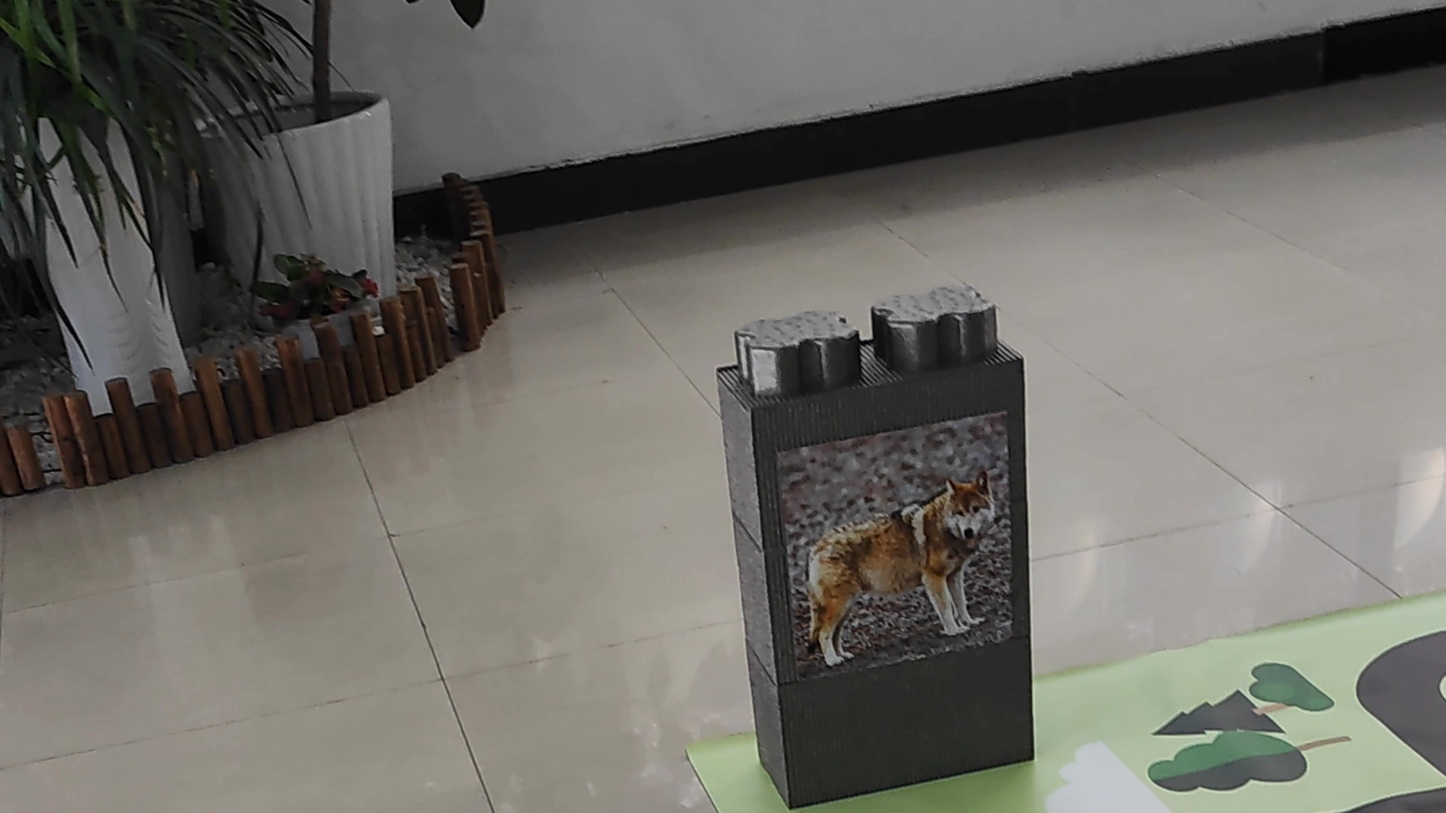wolf: (786, 451, 1010, 655)
